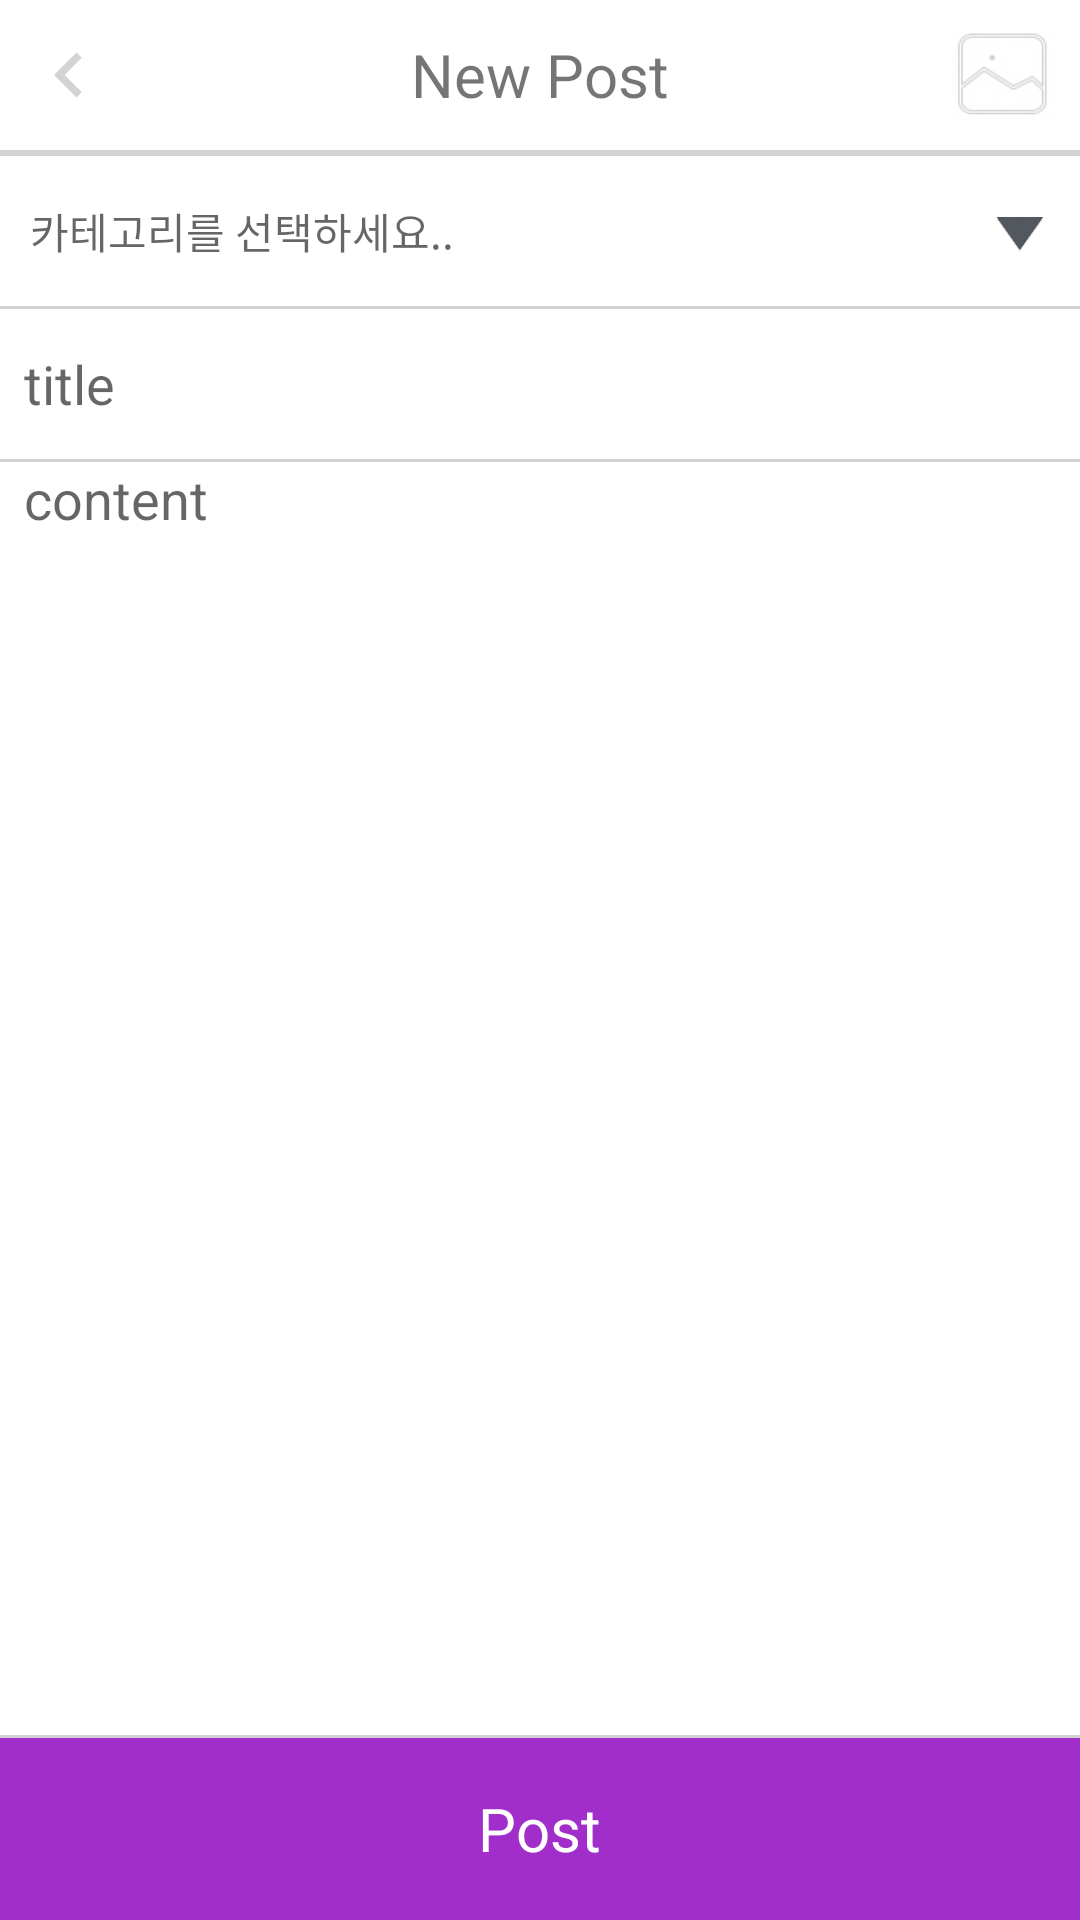

Icon click points for this 1080 x 1920 phone screenshot, format [x,y]:
gallery: [1002,74]
navigate before: [68,75]
